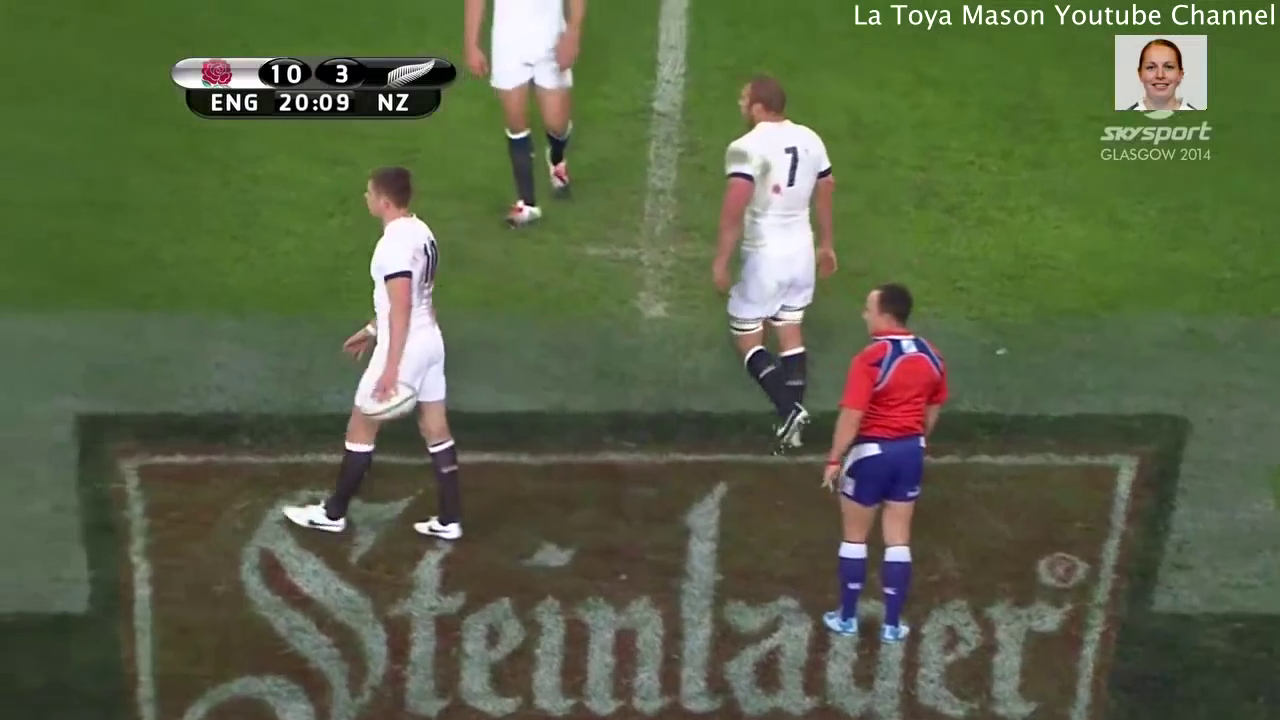player: (274, 156, 466, 544), (813, 278, 953, 638), (708, 77, 839, 454), (456, 1, 593, 220)
